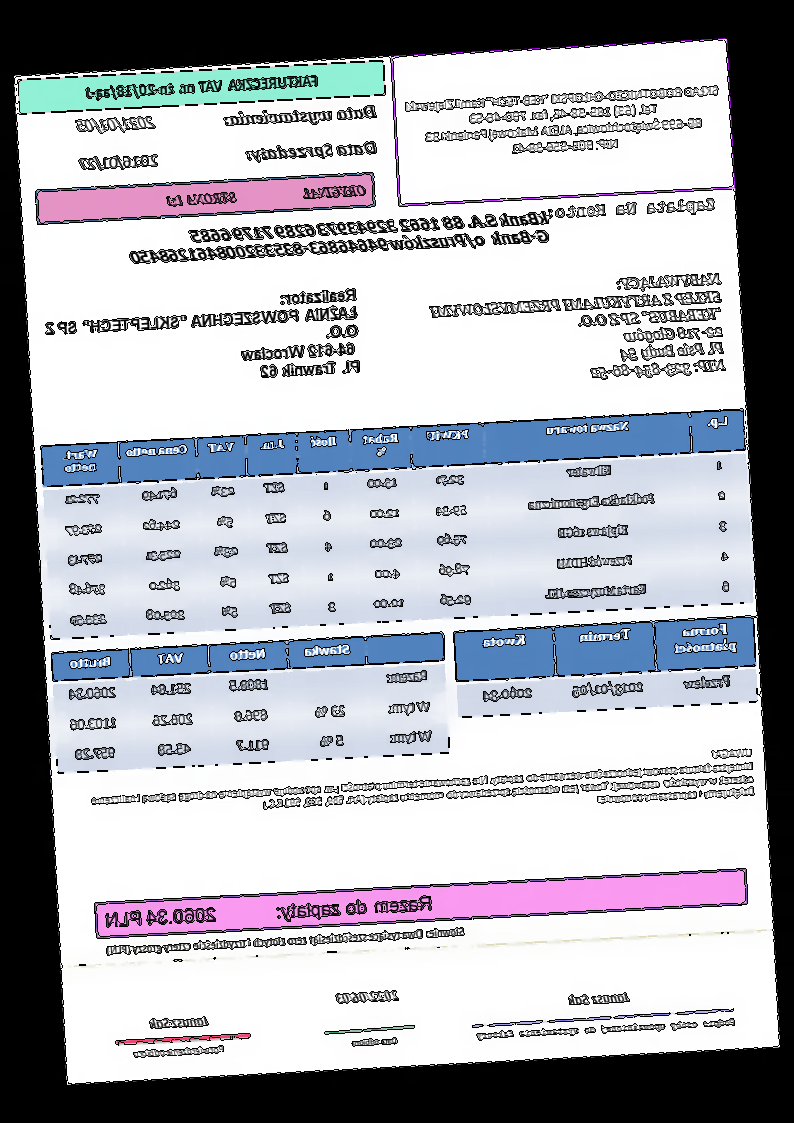Table: (39, 406, 756, 642), (48, 631, 451, 776), (454, 613, 759, 718)
TextBox: (88, 745, 756, 833), (425, 269, 728, 393), (39, 287, 364, 396), (401, 80, 724, 167), (126, 211, 551, 267), (102, 924, 467, 959), (104, 893, 434, 931), (83, 69, 322, 103), (475, 1017, 740, 1043), (162, 182, 368, 211), (224, 101, 380, 134), (546, 196, 718, 222), (244, 138, 381, 166), (74, 112, 157, 138), (77, 150, 161, 173), (131, 1044, 227, 1060), (566, 988, 634, 1010), (333, 988, 402, 1006), (147, 1014, 212, 1031), (348, 1035, 401, 1049)
